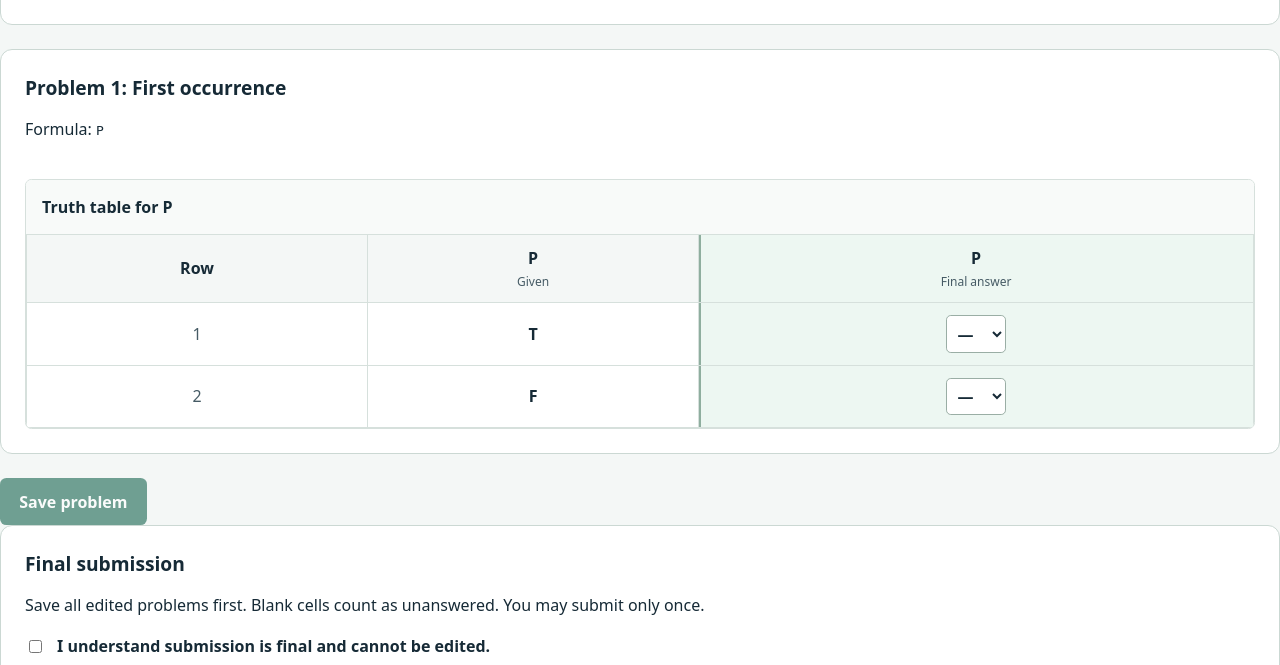
saves false and blanks, retains failed input, and requires saved work plus final confirmation
(page scrolled)
Check: the heading "Problem 1: First occurrence" is shown, box [25, 74, 286, 101]
Select "F" in the dropdown named "Row 1, P=T: P" at x=976, y=334, box [946, 315, 1006, 353]
(page scrolled)
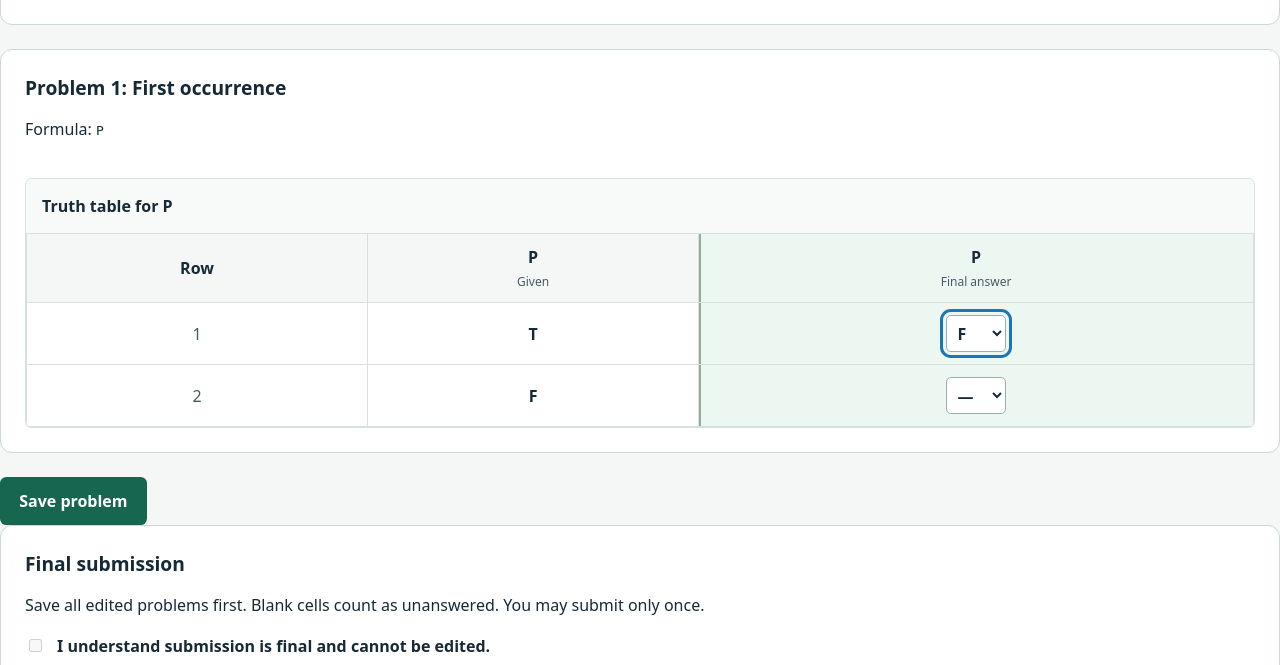
Check: the checkbox labelled "I understand submission is final and cannot be edited." is disabled, box [29, 639, 42, 652]
Click the button "Save problem" at x=73, y=501, box [0, 477, 147, 525]
(page scrolled)
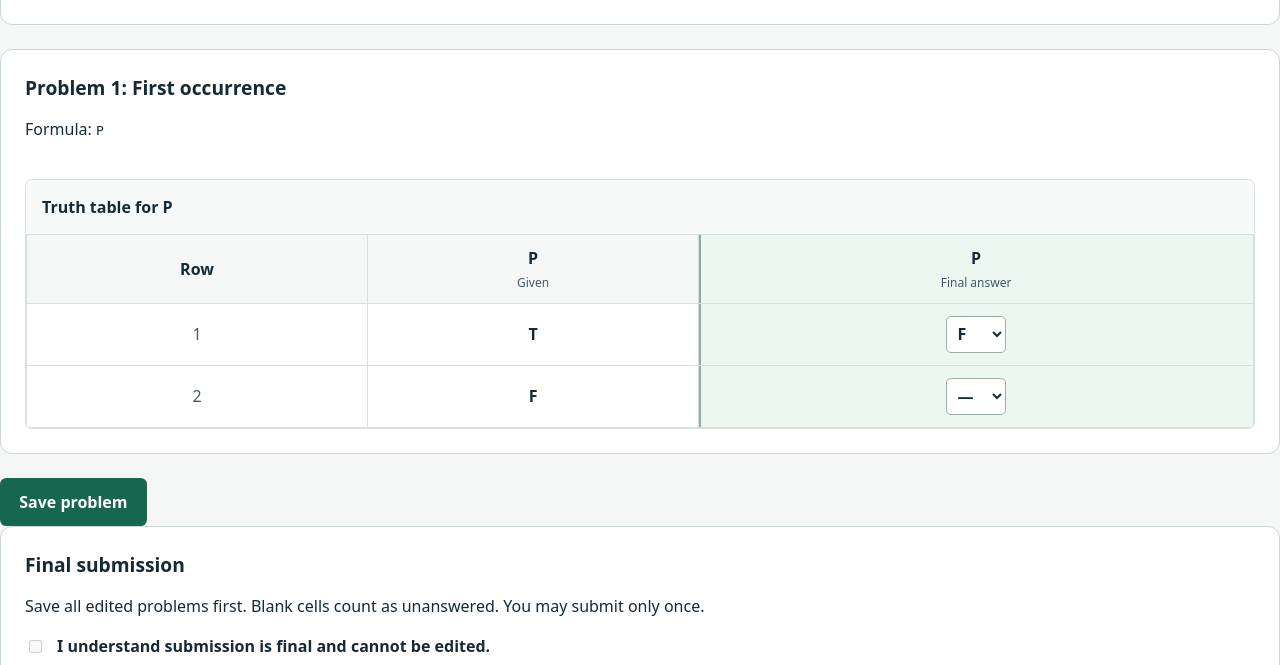
Click the button "Save problem" at x=73, y=502, box [0, 478, 147, 526]
(page scrolled)
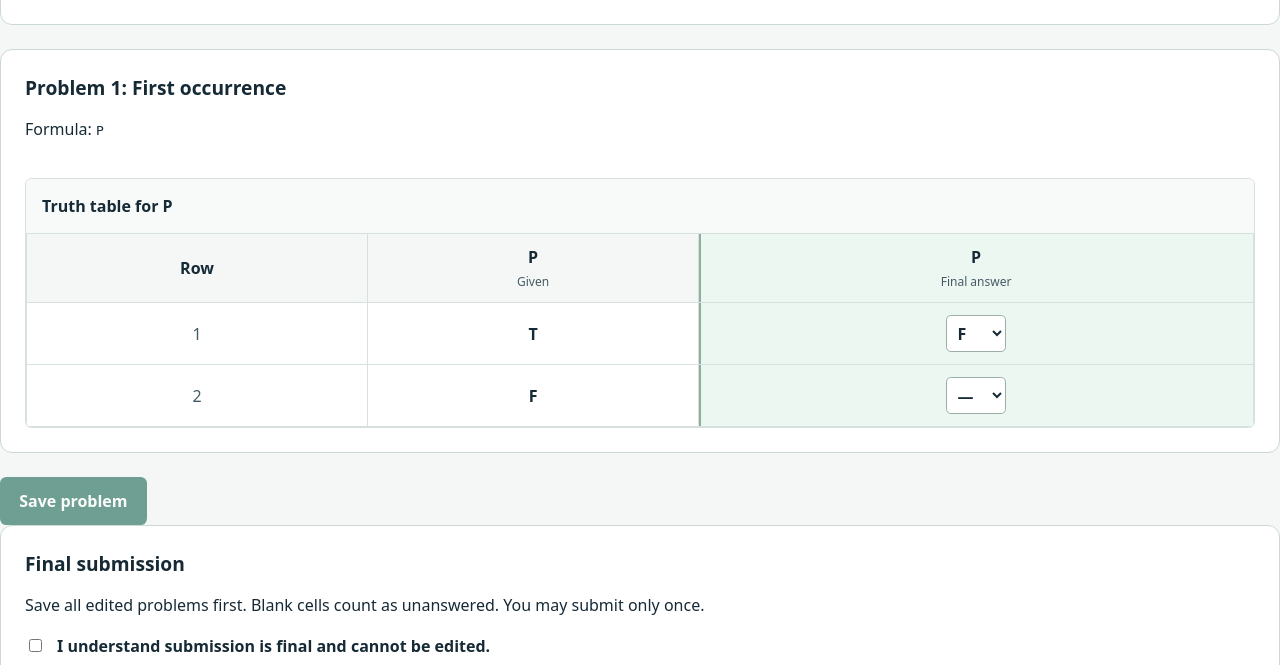
Check: the text "Incorrect" is not shown
Click the checkbox labelled "I understand submission is final and cannot be edited." at x=36, y=646, box [29, 639, 42, 652]
(page scrolled)
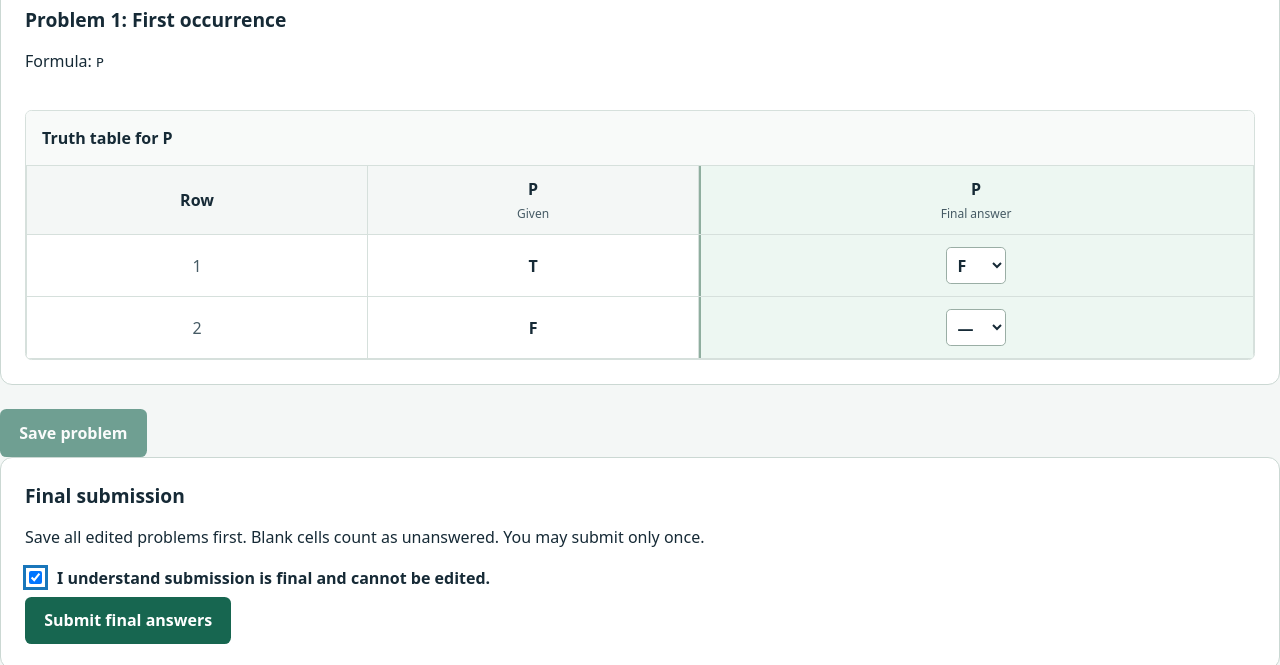
Click the button "Submit final answers" at x=128, y=620, box [25, 596, 231, 644]
(page scrolled)
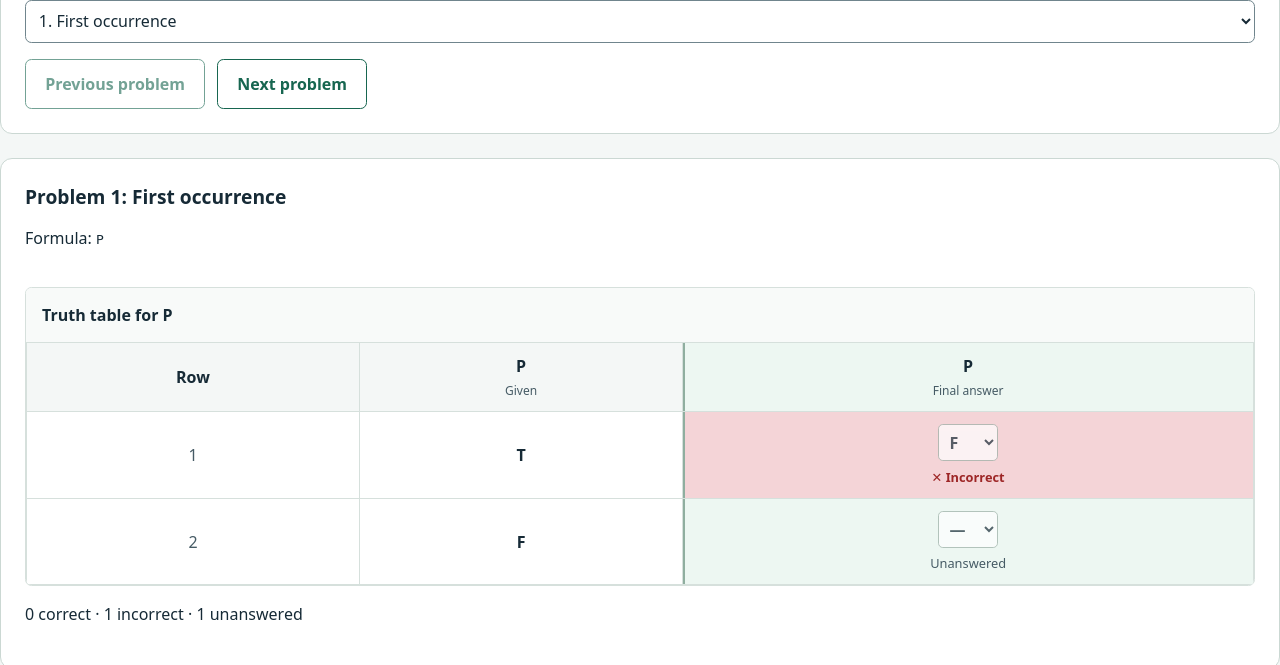
Check: the dropdown named "Row 1, P=T: P" is disabled, box [938, 424, 998, 461]
Check: the text "Incorrect" is shown, box [946, 468, 1005, 486]
